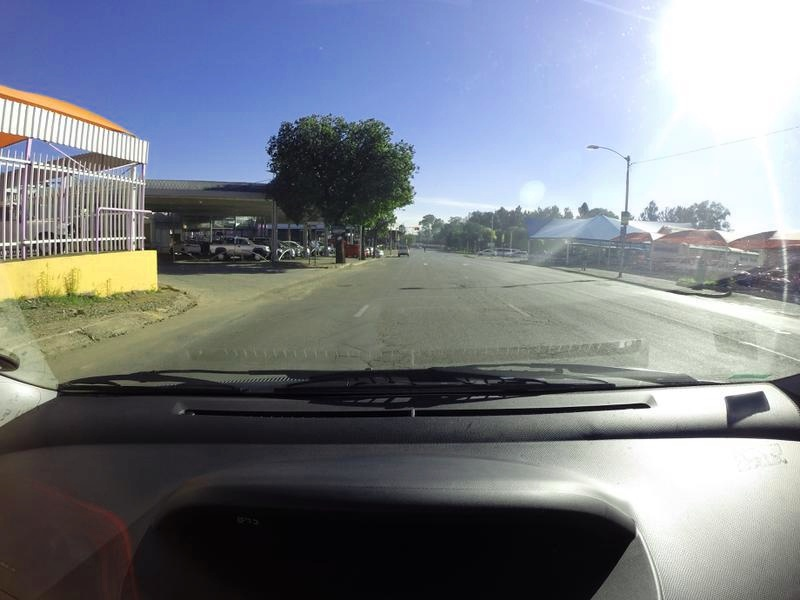pothole: (401, 283, 429, 290), (459, 283, 473, 290)
